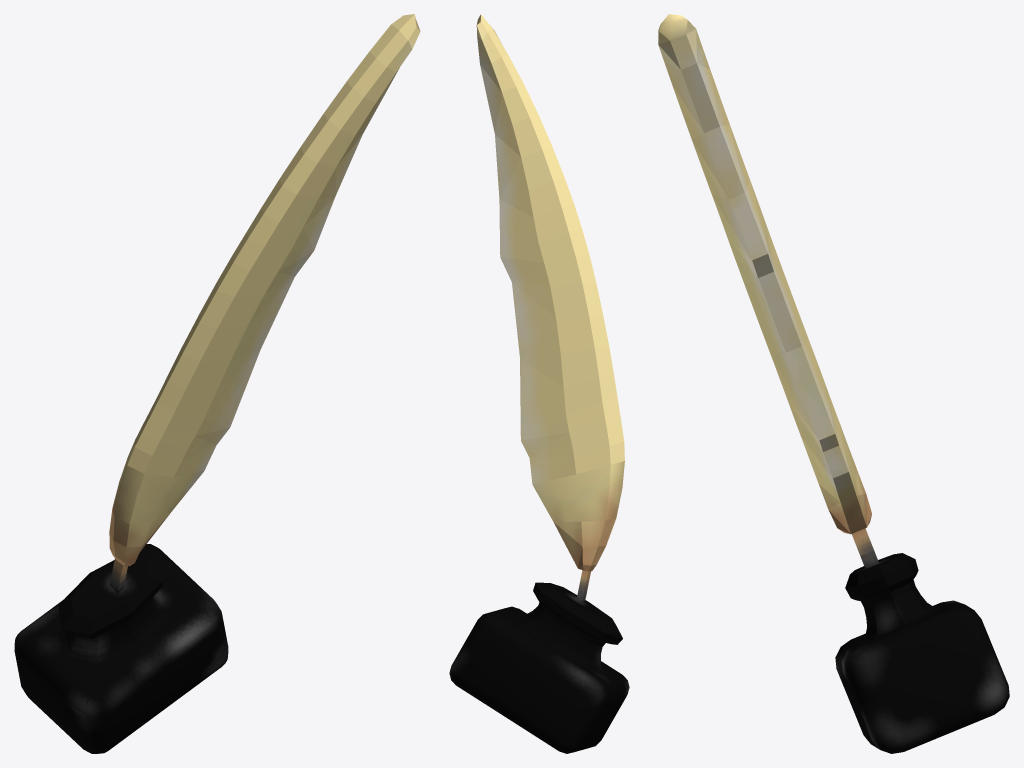
Rendered from COLOREEDQUILL.fbx.
The picture shows the model from 3 angles, left to right: view 1: azimuth 30°, elevation 25°; view 2: azimuth 150°, elevation 25°; view 3: azimuth 270°, elevation 25°; orthographic projection. The views are drawn at different scales.
Parts seen in each view (by area): view 1: node_id4, node_id6; view 2: node_id4, node_id6; view 3: node_id4, node_id6.
Part boxes in pixels (x1,y1,x2,y2): node_id4: (109, 14, 420, 592); node_id6: (14, 544, 228, 753); node_id4: (476, 14, 624, 603); node_id6: (449, 582, 629, 753); node_id4: (658, 14, 878, 568); node_id6: (835, 553, 1009, 753).
Size of the model in its own units: 0.2139 by 0.5587 by 0.208.
2 materials, 2 textured.
